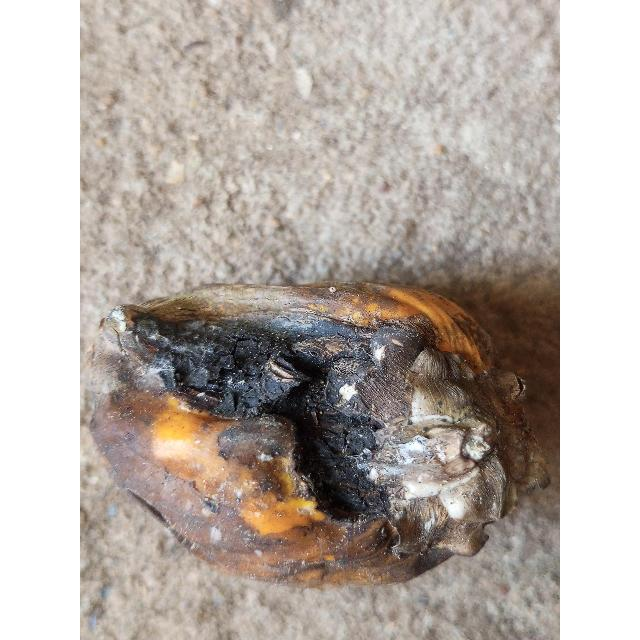damaged: (87, 281, 557, 593)
